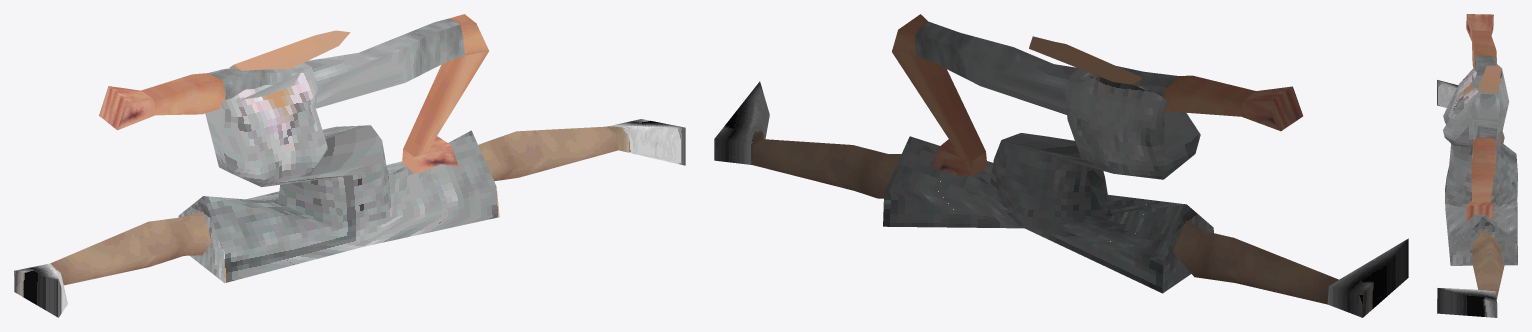
Rendered from CfattechwomanZ.obj.
The picture shows the model from 3 angles, left to right: view 1: azimuth 30°, elevation 25°; view 2: azimuth 150°, elevation 25°; view 3: azimuth 270°, elevation 25°; orthographic projection. The views are drawn at different scales.
Bounding box in the file's own units: 1916 × 574 × 316.
Materials: 12 (12 with a texture image).
